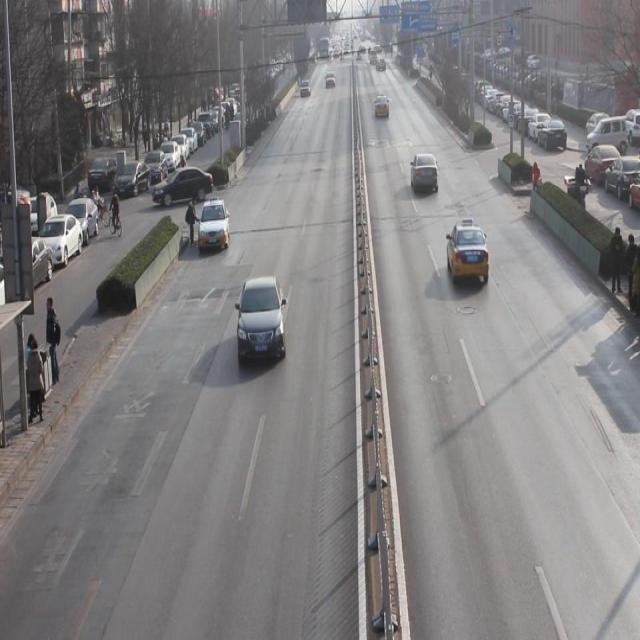car: (233, 274, 287, 368), (445, 221, 492, 284), (198, 200, 230, 254), (408, 153, 442, 195)
